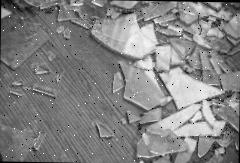glass: (89, 12, 163, 60)
